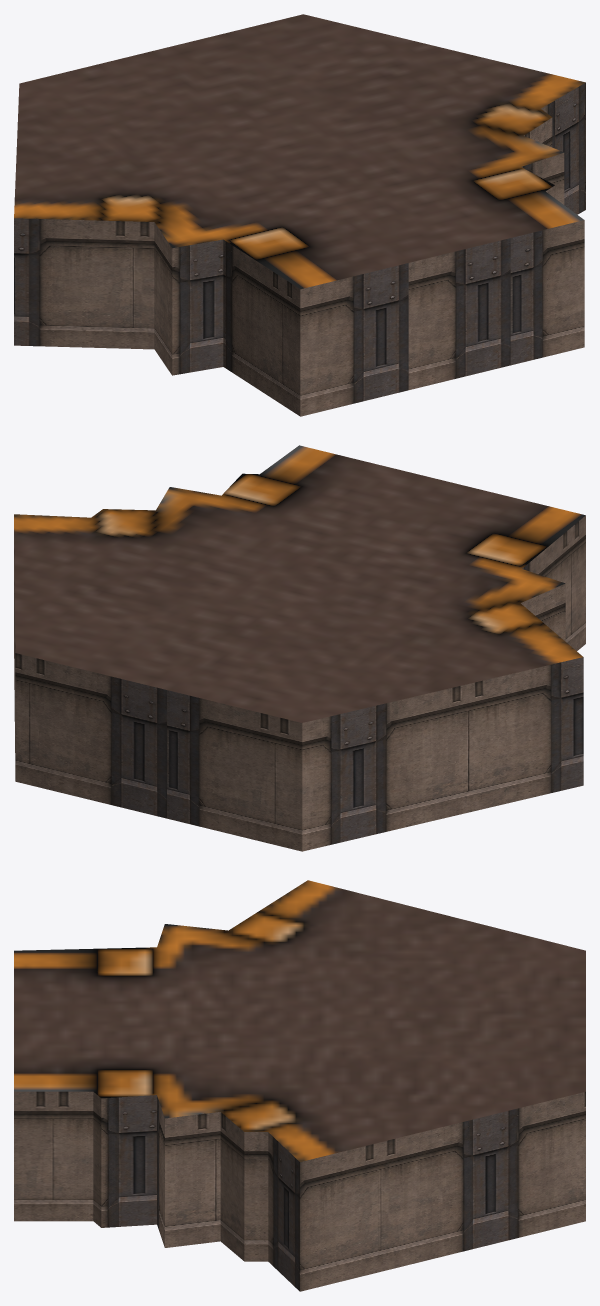
The model's file is heavy_roof43.glb.
3 renders of one model, top to bottom at view 1: azimuth 30°, elevation 25°; view 2: azimuth 150°, elevation 25°; view 3: azimuth 270°, elevation 25°, orthographic.
Visible parts, largest first — view 1: buildings/saxarba/heavy/heavy_roof43; view 2: buildings/saxarba/heavy/heavy_roof43; view 3: buildings/saxarba/heavy/heavy_roof43.
Part boxes in pixels (<box>): buildings/saxarba/heavy/heavy_roof43: <box>14,14,585,416</box>; buildings/saxarba/heavy/heavy_roof43: <box>14,445,585,851</box>; buildings/saxarba/heavy/heavy_roof43: <box>14,880,585,1291</box>.
Bounding box in the file's own units: 84 × 18 × 72.
